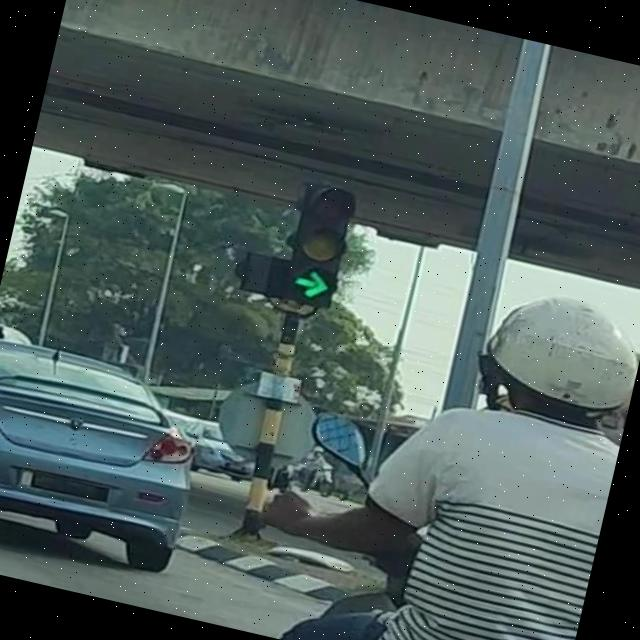green_light: (279, 179, 360, 313)
